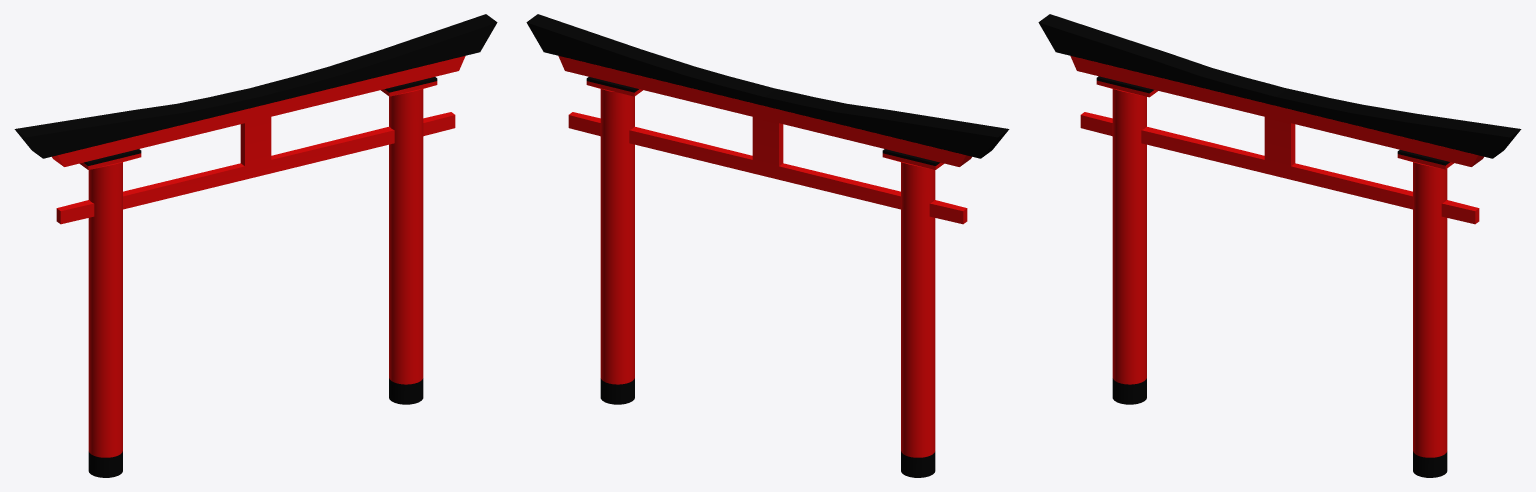
The model's file is gate verison 3.fbx.
3 views of the same model, side by side, from view 1: azimuth 30°, elevation 25°; view 2: azimuth 150°, elevation 25°; view 3: azimuth 330°, elevation 25° (orthographic).
Visible parts, largest first — view 1: polySurface2; view 2: polySurface2; view 3: polySurface2.
Part boxes in pixels (x1,y1,x2,y2): polySurface2: (14,14,497,477); polySurface2: (526,14,1009,477); polySurface2: (1038,14,1521,477).
Bounding box in the file's own units: 40.8 × 29.62 × 2.59.
